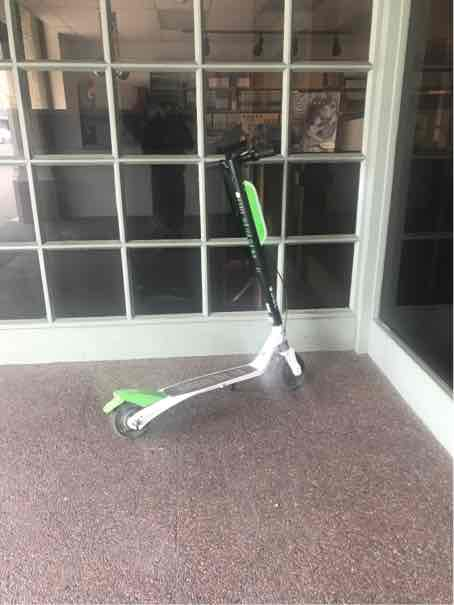scooter: (97, 134, 316, 441)
